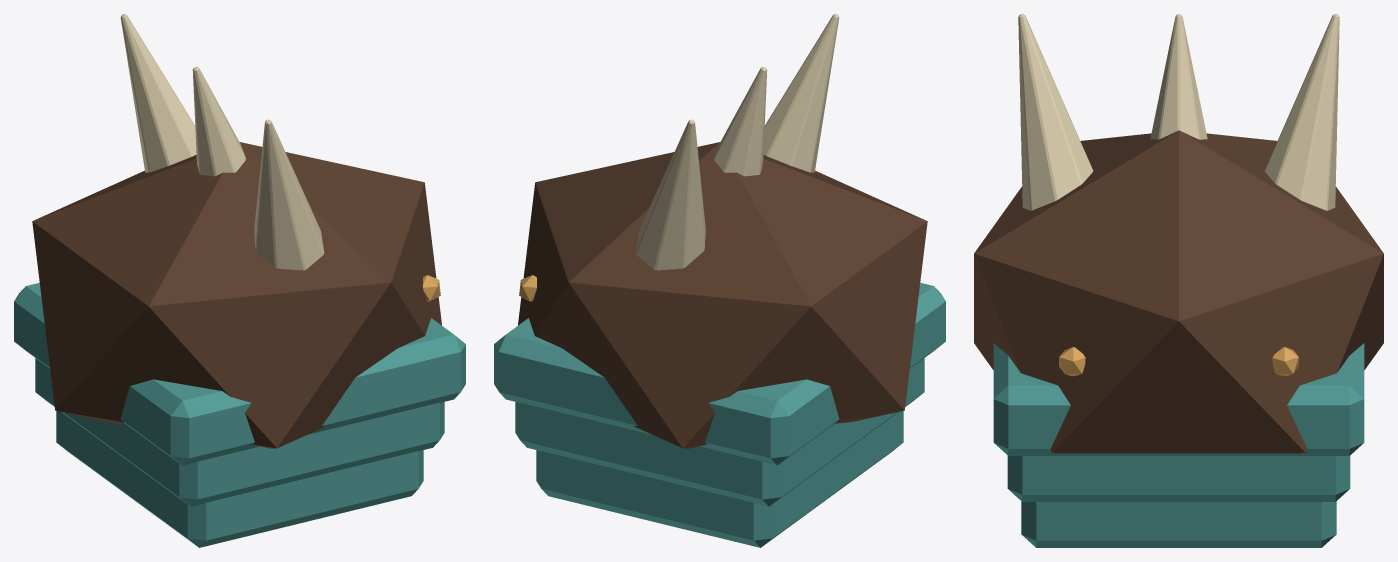
The model's file is SM_Life_Shoulder_Seer.fbx.
3 renders of one model, left to right at view 1: azimuth 30°, elevation 25°; view 2: azimuth 150°, elevation 25°; view 3: azimuth 270°, elevation 25°, orthographic. The views are drawn at different scales.
Parts seen in each view (by area): view 1: SM_Life_Shoulder_Seer; view 2: SM_Life_Shoulder_Seer; view 3: SM_Life_Shoulder_Seer.
Boxes of the visible parts, bbox=[...] form: SM_Life_Shoulder_Seer: bbox=[14, 14, 465, 547]; SM_Life_Shoulder_Seer: bbox=[494, 14, 945, 547]; SM_Life_Shoulder_Seer: bbox=[974, 14, 1383, 547].
Size of the model in its own units: 25.04 by 27.04 by 22.12.
